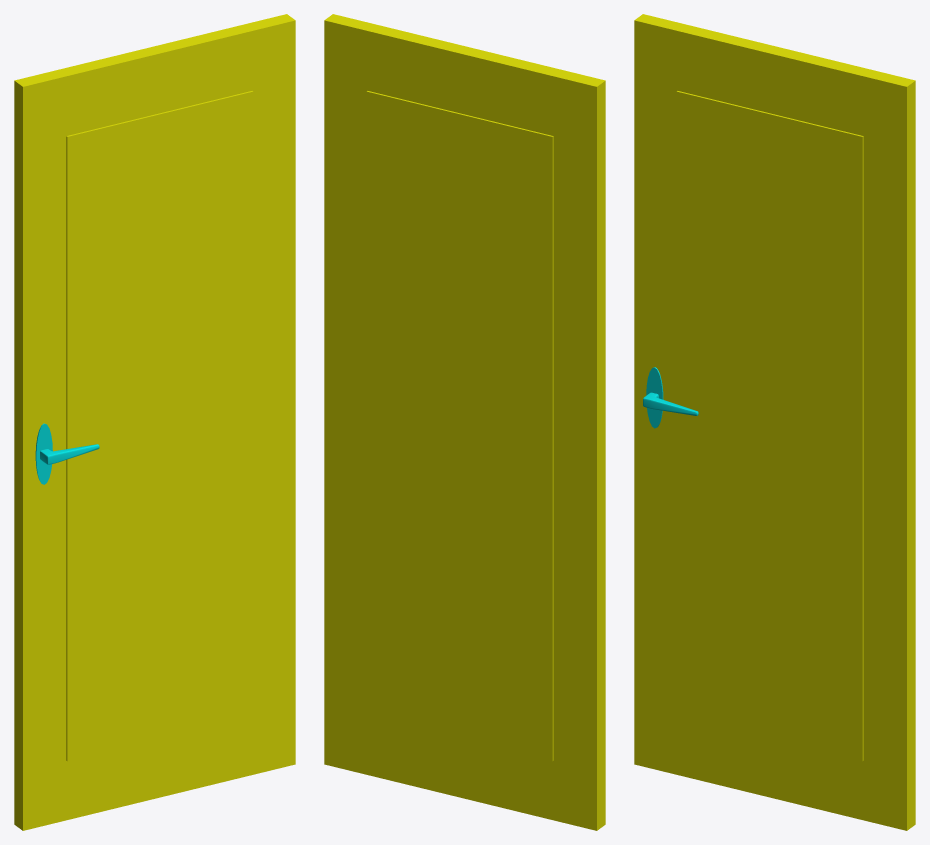
The model's file is OM_DM_Door.fbx.
The picture shows the model from 3 angles, left to right: view 1: azimuth 30°, elevation 25°; view 2: azimuth 150°, elevation 25°; view 3: azimuth 330°, elevation 25°; orthographic projection.
Parts seen in each view (by area): view 1: OM_DM_Door, OM_DM_Door_Handle; view 2: OM_DM_Door; view 3: OM_DM_Door, OM_DM_Door_Handle.
Part boxes in pixels (x1,y1,x2,y2): OM_DM_Door: [14, 14, 295, 830]; OM_DM_Door_Handle: [35, 423, 99, 484]; OM_DM_Door: [324, 14, 605, 830]; OM_DM_Door: [634, 14, 915, 830]; OM_DM_Door_Handle: [643, 367, 698, 428].
Size of the model in its own units: 2.95 by 7.7 by 0.3414.
